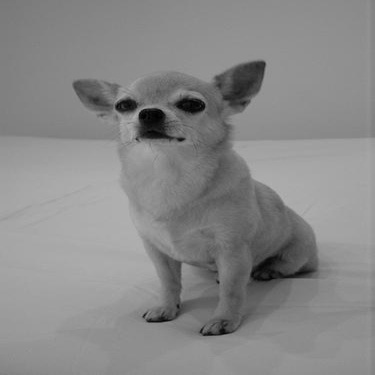dog: (56, 47, 327, 343)
